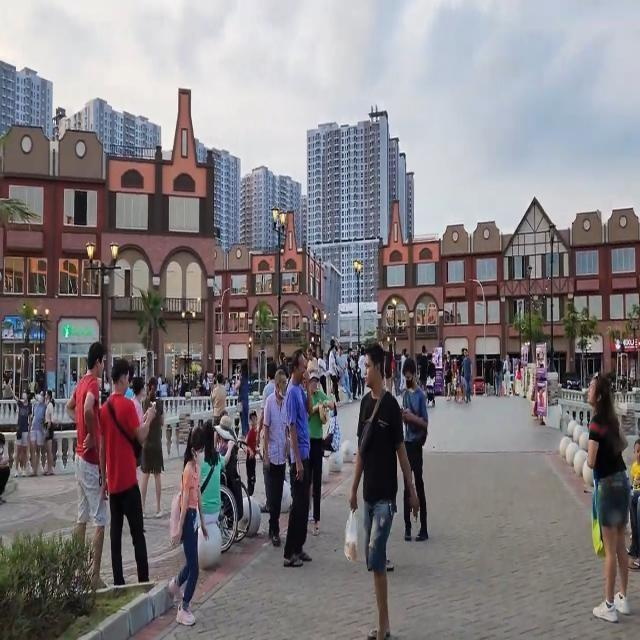hairnet: (276, 376, 287, 399)
